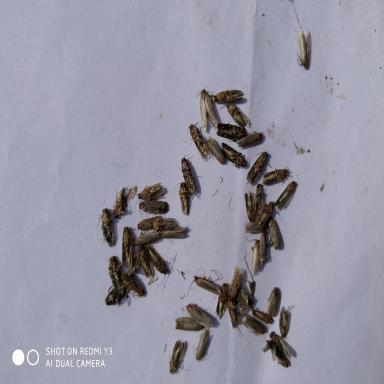pbw: (184, 117, 212, 163), (195, 84, 220, 134), (110, 178, 138, 222), (213, 134, 248, 169), (151, 216, 193, 245), (246, 198, 278, 236), (184, 268, 221, 298), (178, 154, 202, 200), (164, 338, 189, 380), (184, 300, 215, 333), (94, 204, 116, 250), (167, 180, 193, 218), (243, 148, 270, 184), (118, 271, 147, 302), (295, 26, 313, 74), (221, 292, 240, 336), (133, 242, 155, 280), (275, 182, 300, 215), (265, 212, 285, 253), (192, 325, 213, 364), (260, 164, 294, 188), (223, 99, 250, 129), (137, 176, 168, 202), (106, 255, 126, 295), (224, 264, 244, 304), (104, 281, 132, 309), (211, 83, 245, 106), (202, 136, 227, 167), (276, 296, 294, 339), (168, 315, 203, 337), (215, 122, 251, 143), (242, 311, 268, 340), (246, 235, 262, 280), (121, 226, 136, 274), (266, 340, 290, 370), (235, 127, 267, 148), (213, 280, 229, 321), (226, 289, 258, 309), (257, 223, 271, 268), (240, 190, 258, 224), (128, 230, 160, 248), (240, 216, 272, 234), (134, 200, 170, 216), (253, 178, 267, 216), (268, 282, 280, 325), (252, 306, 274, 327), (136, 214, 162, 230)
